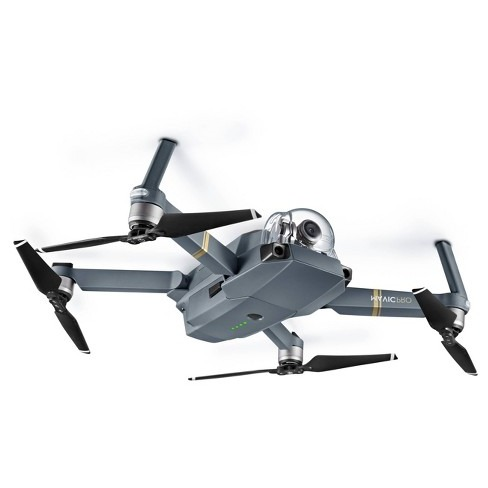drone: (13, 139, 478, 383)
